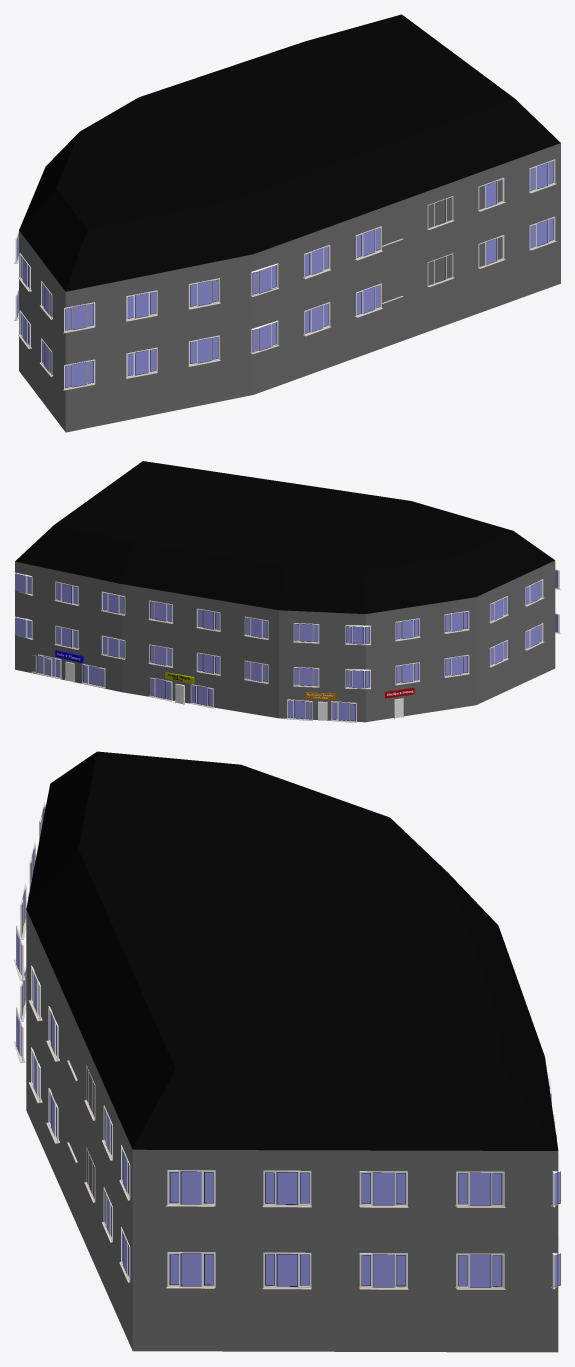
The model's file is HarcourtRoadShops.fbx.
The picture shows the model from 3 angles, top to bottom: view 1: azimuth 30°, elevation 25°; view 2: azimuth 150°, elevation 25°; view 3: azimuth 270°, elevation 25°; orthographic projection. The views are drawn at different scales.
Parts seen in each view (by area): view 1: Vert.009, Window.002, Window.001; view 2: Vert.009, Window.001, Window.002, Window.006, Window.007, Window.003, Window.004, Window.005, Window; view 3: Vert.009, Window.002, Window.001.
Part boxes in pixels (<box>): Vert.009: <box>19,14,560,432</box>; Window.002: <box>14,159,556,333</box>; Window.001: <box>14,216,556,390</box>; Vert.009: <box>15,461,555,722</box>; Window.001: <box>14,613,560,689</box>; Window.002: <box>14,569,560,645</box>; Window.006: <box>331,701,357,722</box>; Window.007: <box>287,699,312,720</box>; Window.003: <box>81,663,105,688</box>; Window.004: <box>148,677,173,701</box>; Window.005: <box>190,684,214,708</box>; Window: <box>37,654,61,679</box>; Vert.009: <box>26,751,558,1352</box>; Window.002: <box>14,801,560,1207</box>; Window.001: <box>14,965,560,1289</box>.
Bounding box in the file's own units: 49.12 × 16.19 × 30.48.
